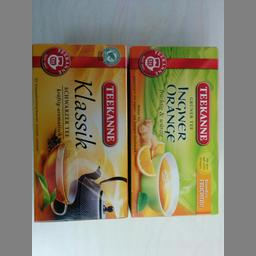tea: (31, 41, 129, 223), (128, 43, 219, 216)
